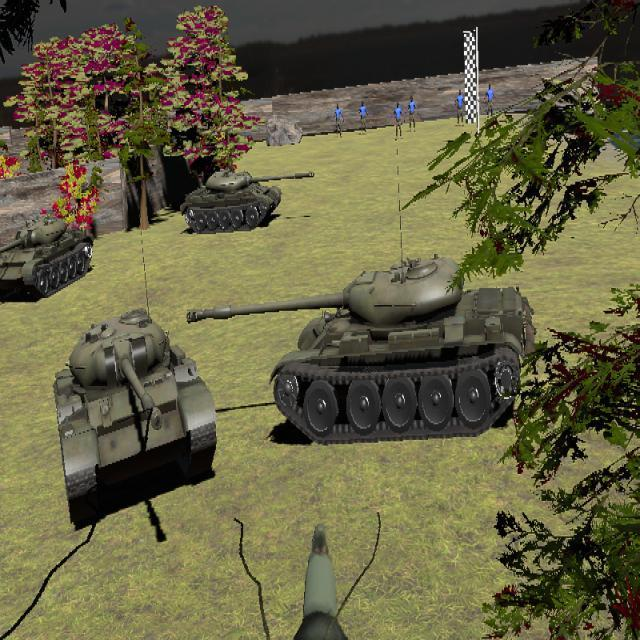Tank: (185, 253, 540, 445), (54, 309, 219, 523), (180, 168, 316, 235), (0, 213, 93, 303)
